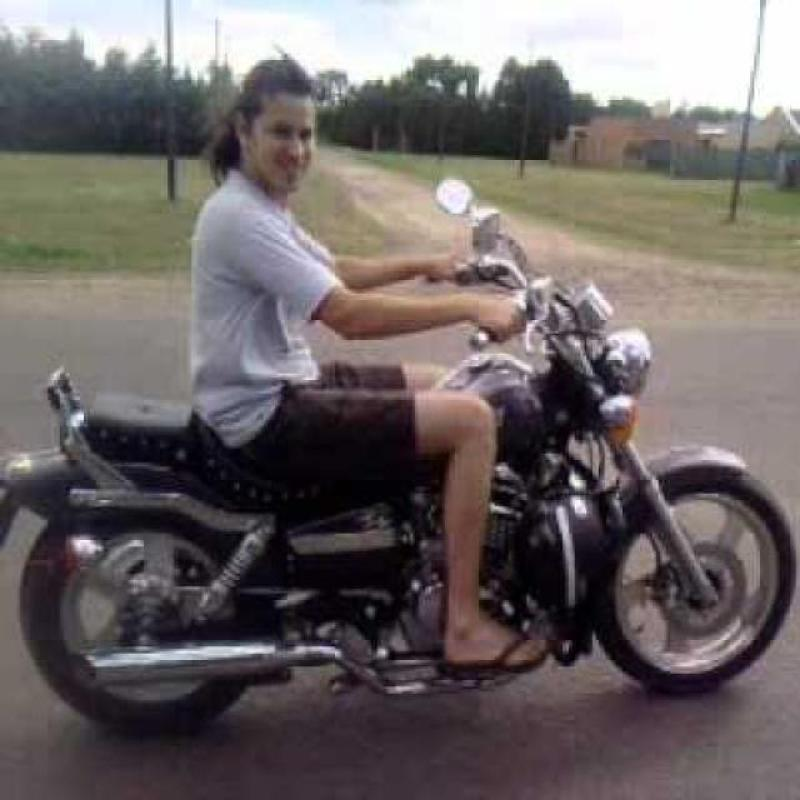nohelmet: (217, 50, 338, 196)
